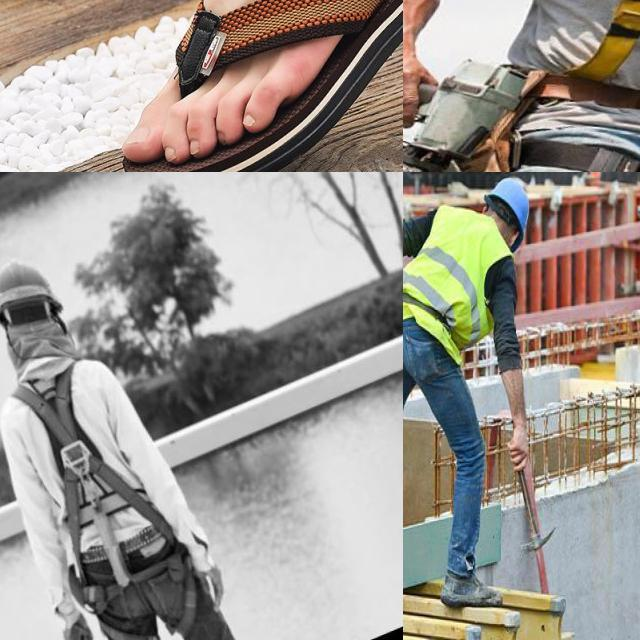Harness: (13, 368, 171, 588)
hand_noglove: (507, 418, 537, 474)
head_helmet: (485, 174, 532, 248)
person: (403, 173, 555, 607)
shoes: (438, 565, 508, 613)
vest: (403, 201, 502, 356)
